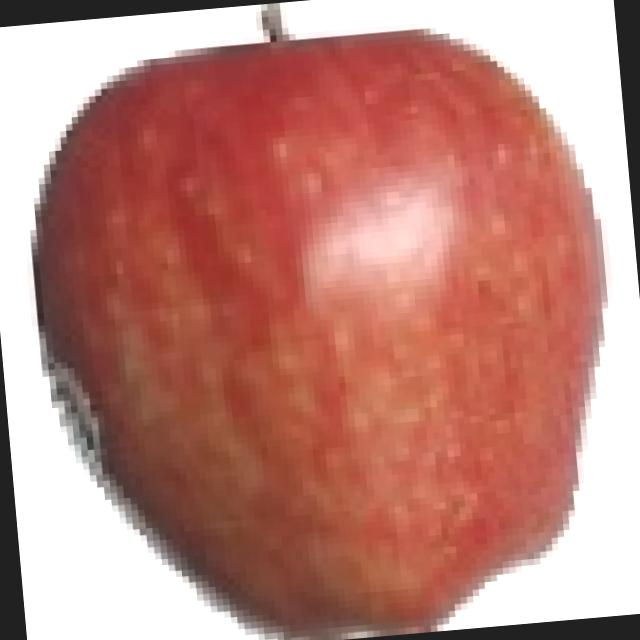apple: (4, 0, 639, 640)
